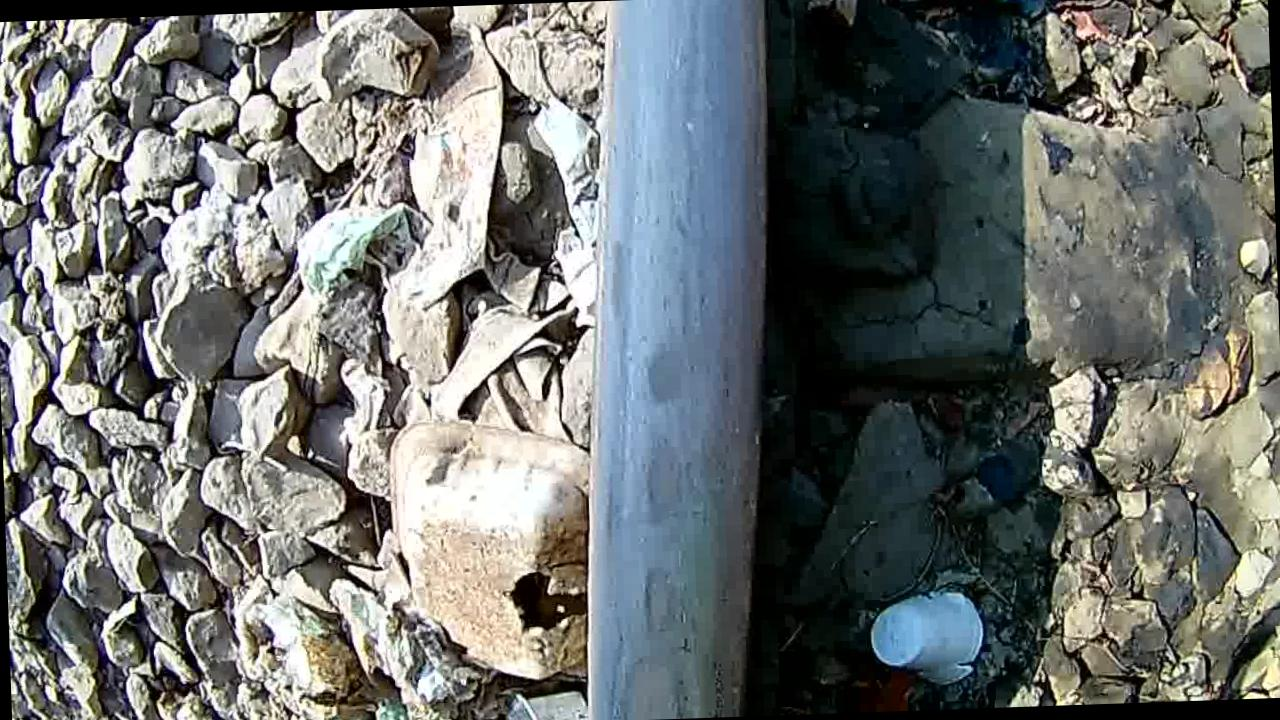bolt_missing: (576, 261, 800, 720)
